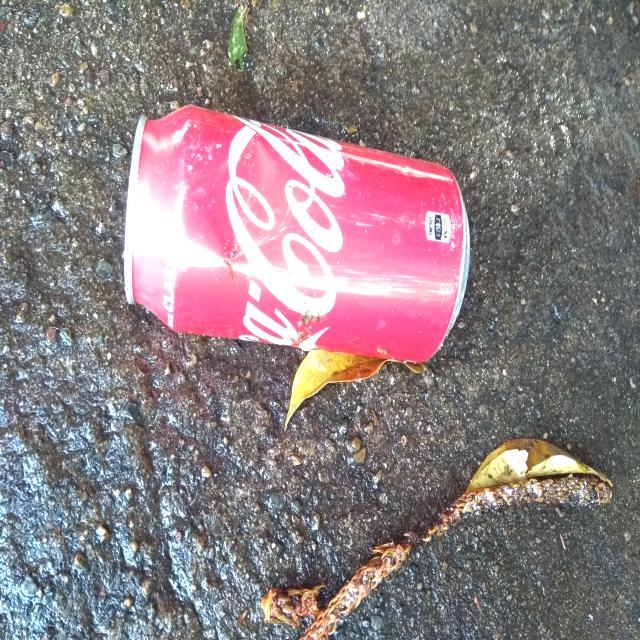Drink can: (124, 105, 470, 363)
